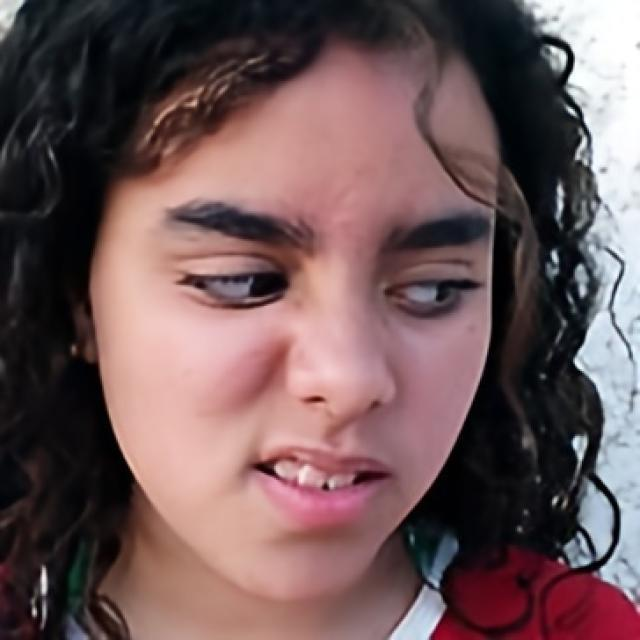disgust: (87, 19, 502, 600)
